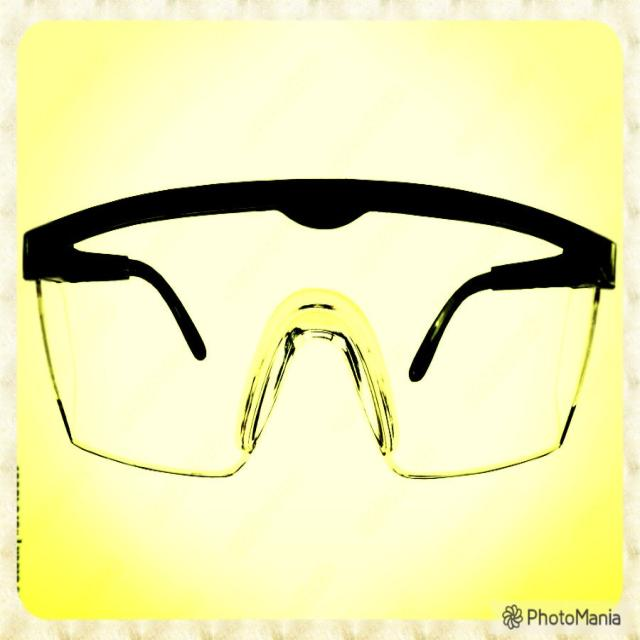Goggles: (21, 165, 619, 484)
